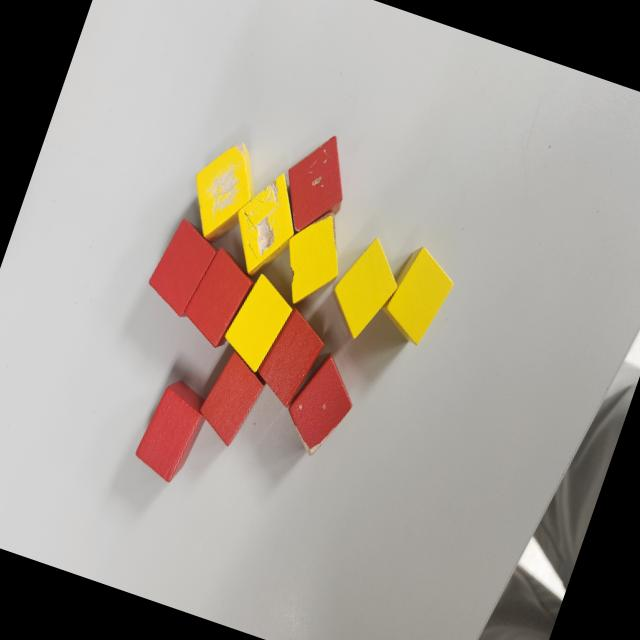broken: (218, 158, 314, 286), (177, 130, 269, 252), (274, 345, 367, 465), (270, 124, 362, 242), (268, 200, 356, 314)
red: (129, 371, 216, 488), (177, 240, 263, 354), (138, 212, 222, 325), (190, 344, 274, 454), (250, 303, 333, 412)
yellow: (320, 229, 412, 351), (373, 238, 462, 354), (215, 265, 300, 378)
